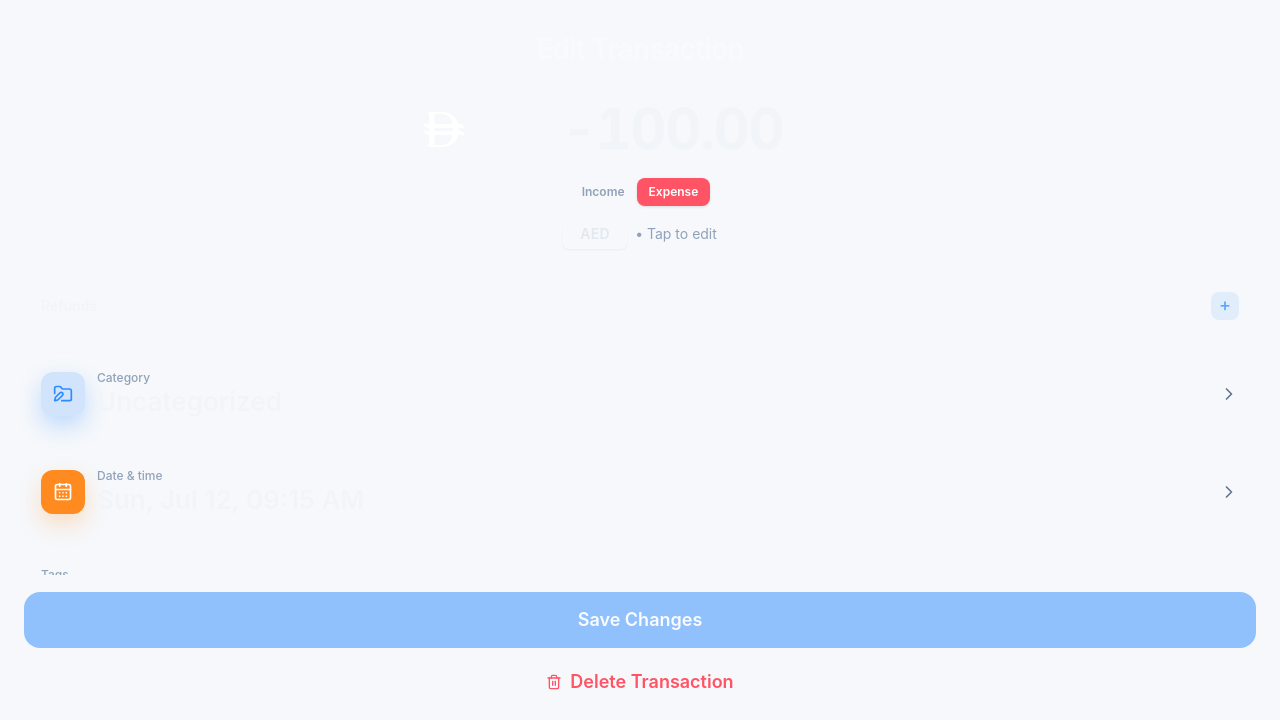
TransactionEditDialog › keeps the refunds section compact until the first refund is added
Expected: the element with test id "tx-edit-refunds" is shown, [24, 277, 1256, 335]
Click the button with test id "tx-edit-add-refund": x=1225, y=306 [1211, 292, 1239, 320]
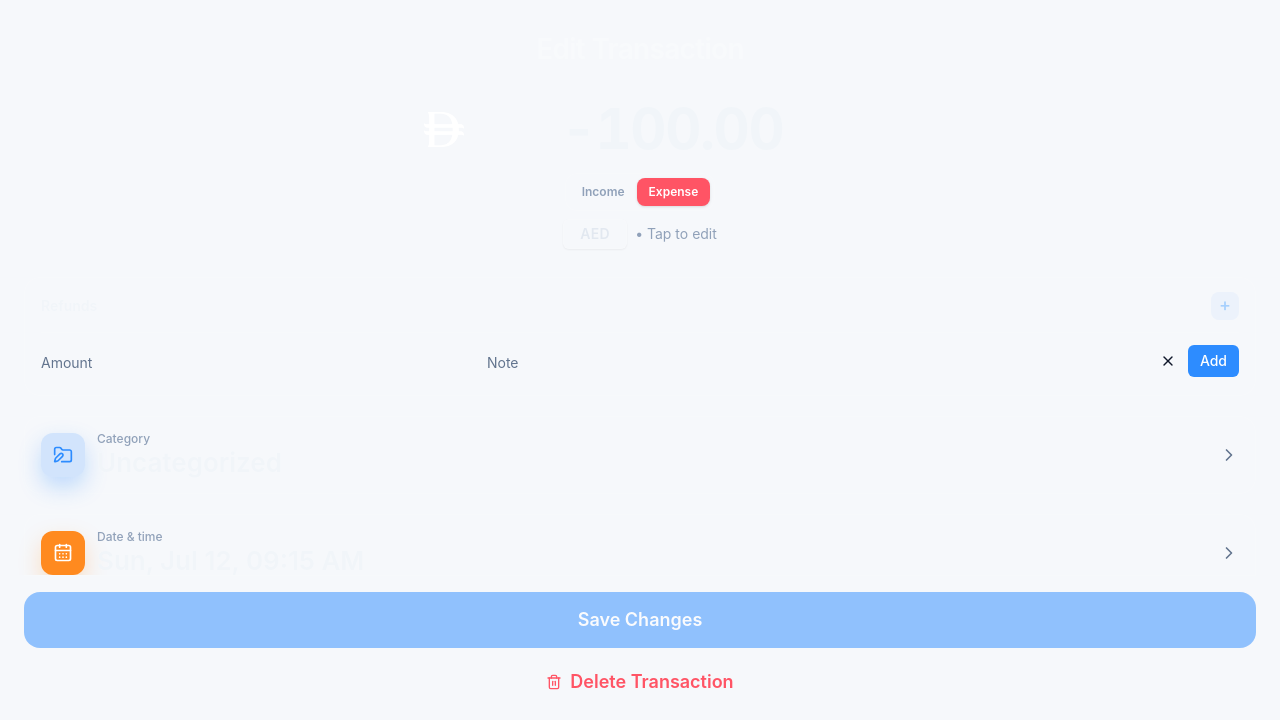
In the field named "Refund amount": x=260, y=363 [41, 345, 479, 381], type "20"
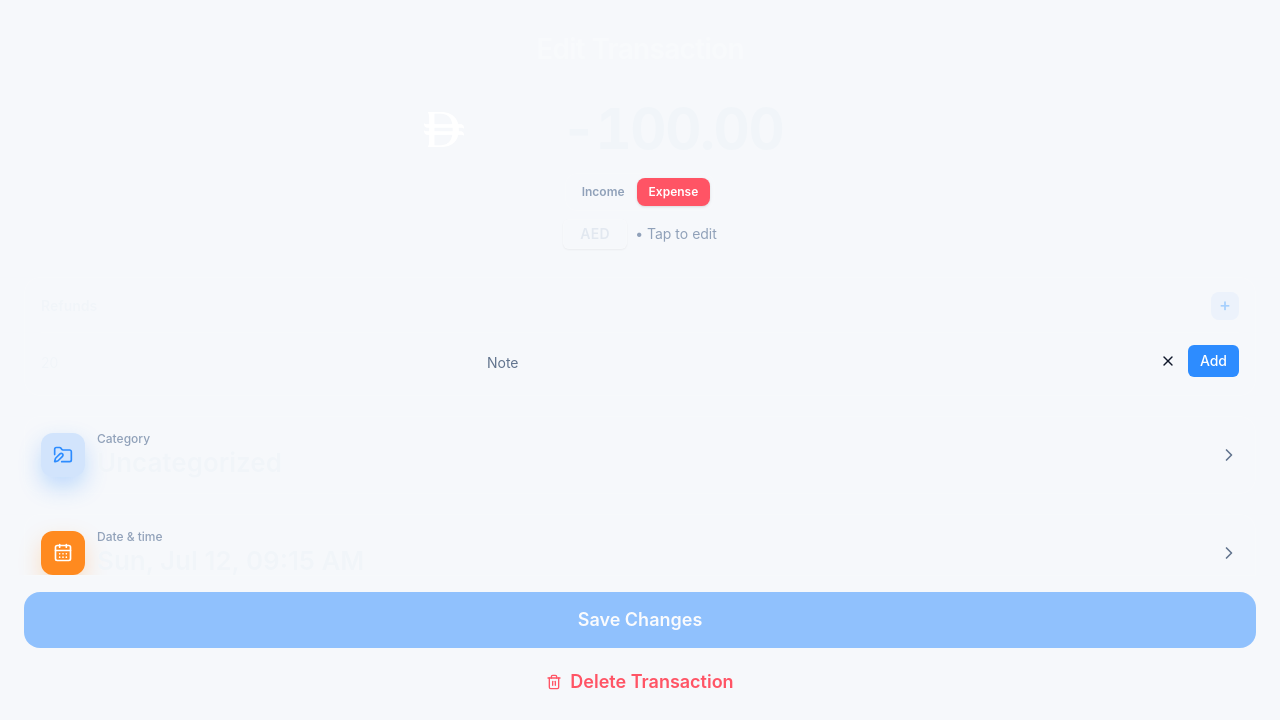
In the field named "Refund note": x=815, y=363 [487, 345, 1144, 381], type "Returned item"
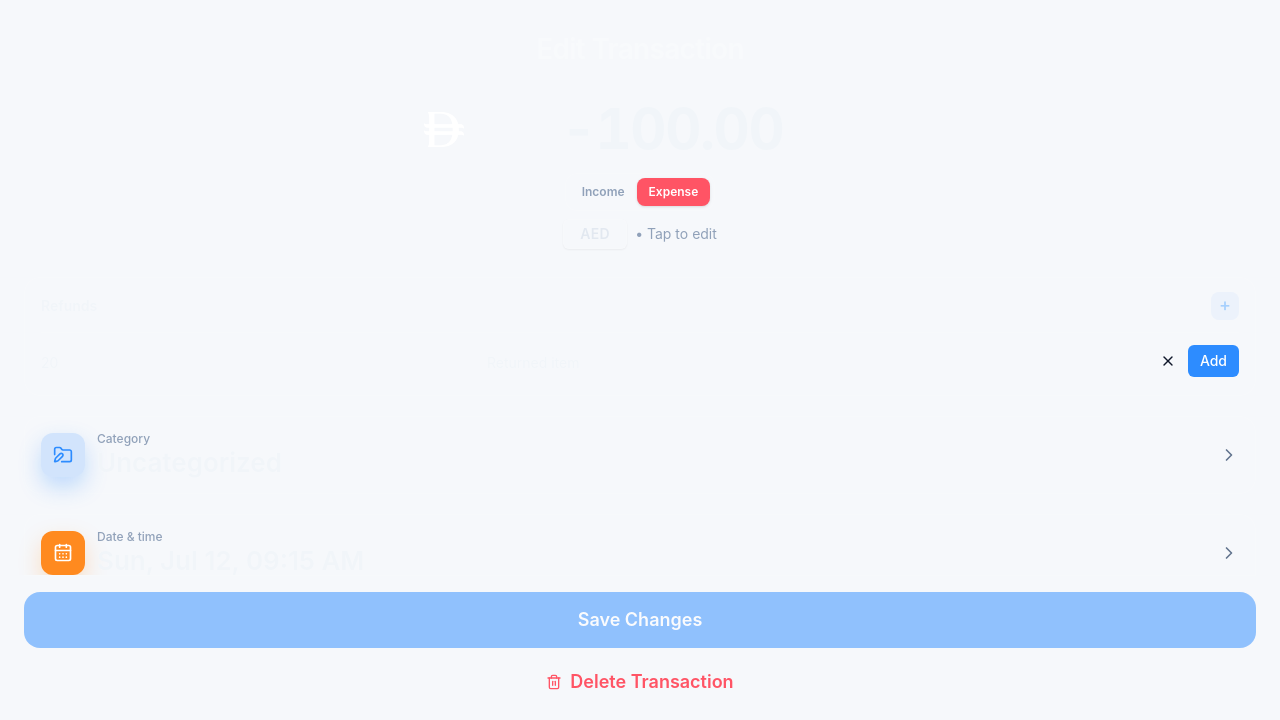
Click the button with aria-label "Confirm refund": x=1213, y=361 [1188, 345, 1239, 377]
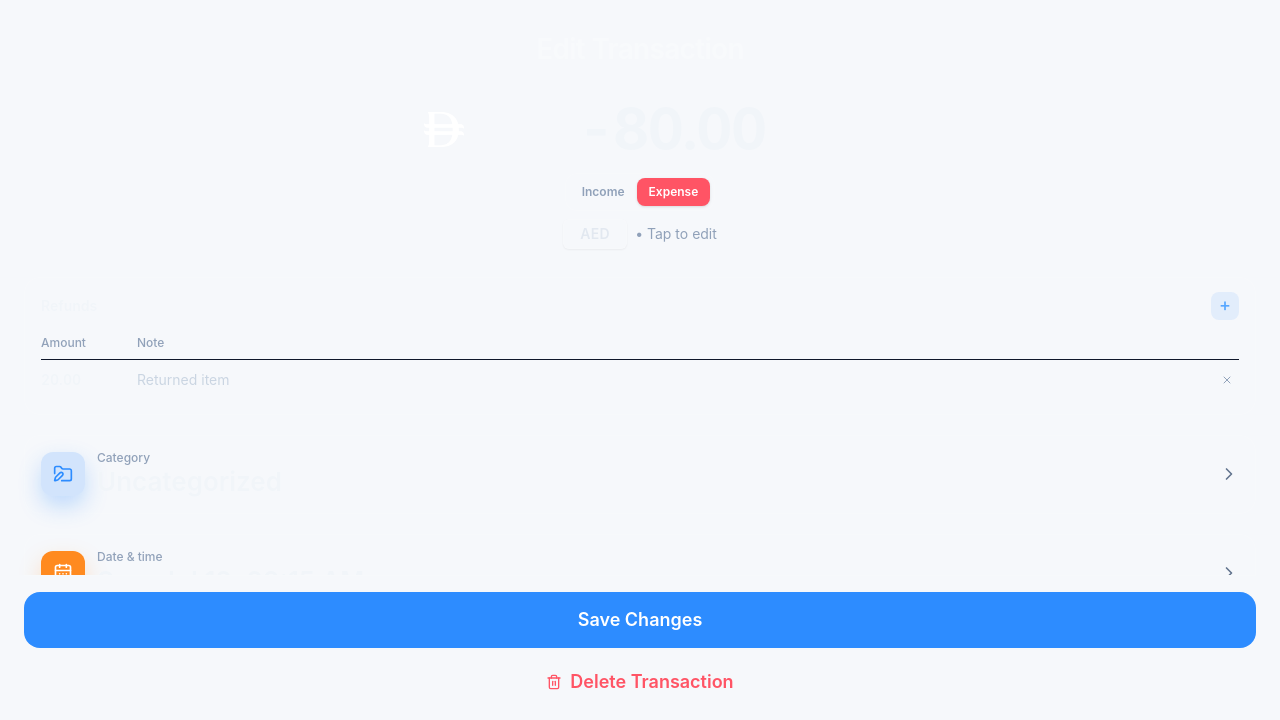
Expected: the column heading "Amount" is shown, [41, 328, 137, 360]
Expected: the column heading "Note" is shown, [137, 328, 1207, 360]
Expected: the text "20.00" is shown, [41, 360, 137, 400]
